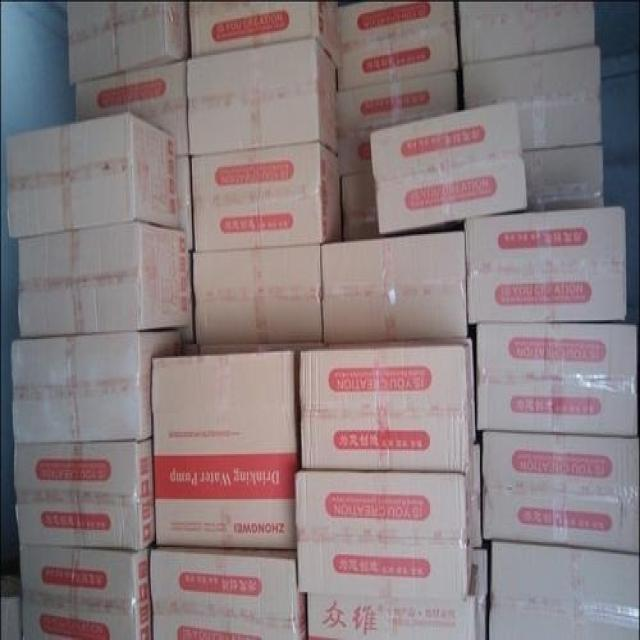Carton: (6, 114, 189, 330), (147, 353, 292, 549), (297, 344, 466, 470), (371, 105, 524, 232), (296, 477, 463, 588), (485, 434, 639, 547), (186, 41, 340, 153), (470, 208, 621, 322), (479, 325, 634, 428), (323, 234, 465, 342), (10, 327, 140, 437), (486, 545, 637, 638), (193, 151, 340, 244), (13, 440, 143, 544), (151, 551, 292, 638), (193, 246, 321, 341), (20, 538, 138, 638)
